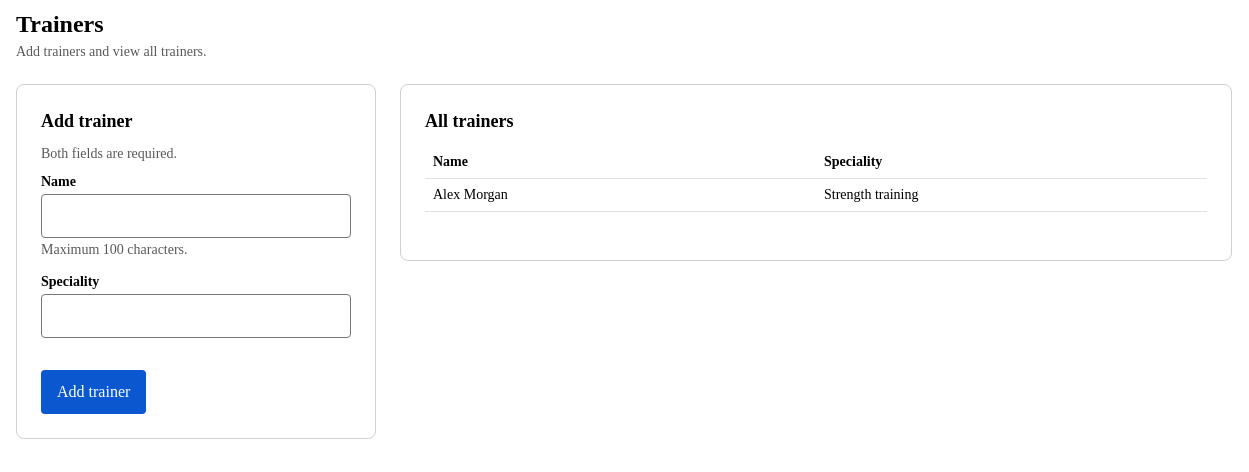
Scenario: Trainers page (FIT-941 T2) › Trainers / Success (AC-013) › OQ-004 interim: a separate intentional add with the same values is not blocked and shows no matching-name message
Type "Alex Morgan" into the field labelled "Name" at (196,216), box [41,194,351,238]
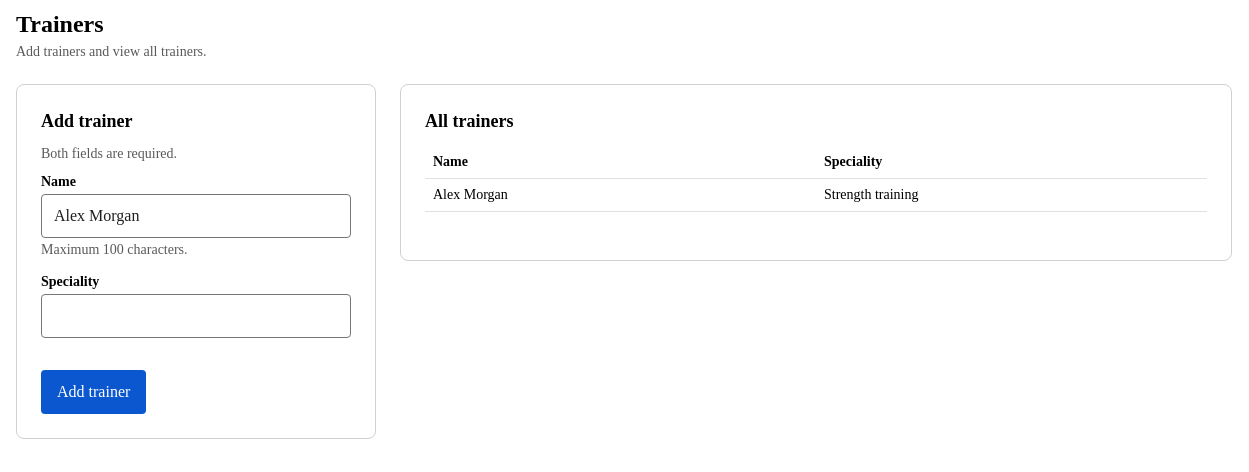
Type "Strength training" into the field labelled "Speciality" at (196,316), box [41,294,351,338]
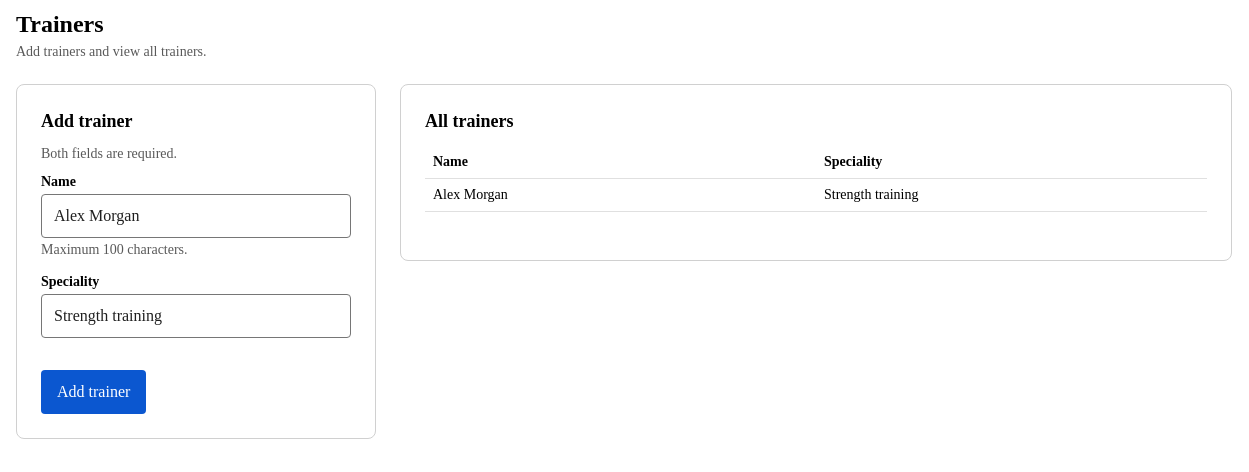
Click the submit button at (94,392), box [41,370,146,414]
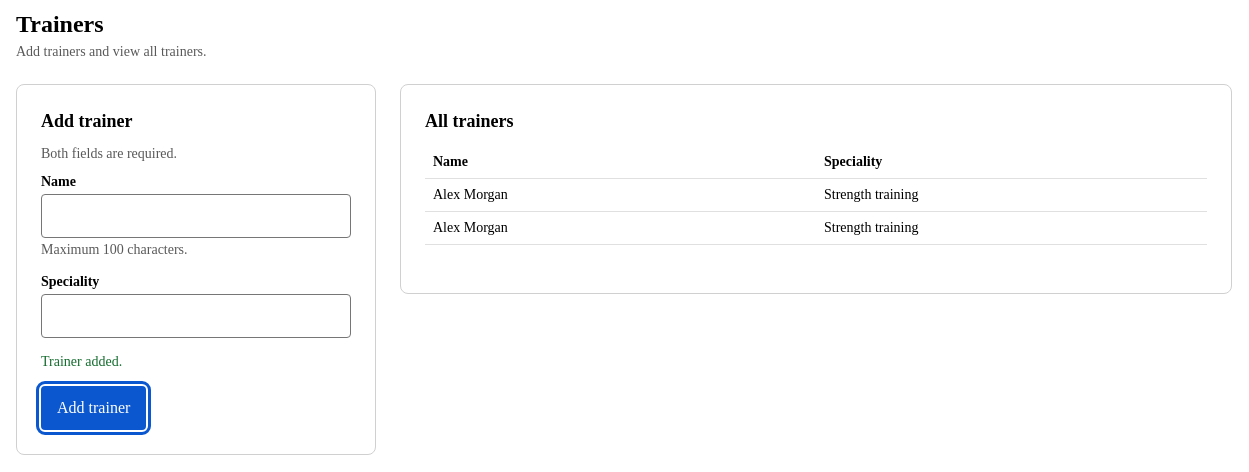
Check: the text "Trainer added." is shown, box [41,354,122,369]
